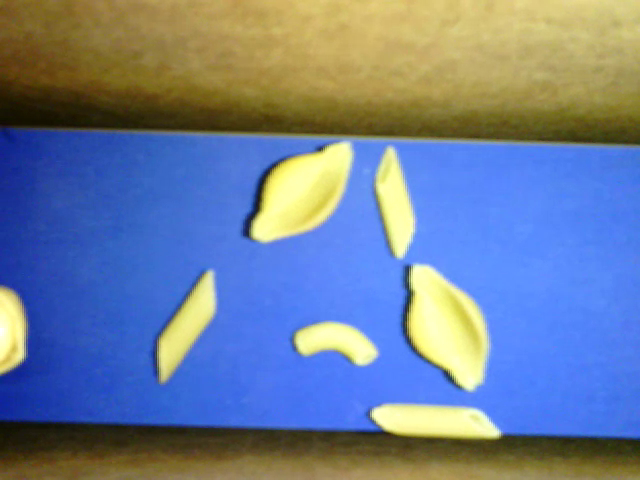elbow: (293, 321, 380, 364)
penne: (156, 269, 216, 383), (370, 401, 503, 438), (375, 145, 417, 260)
shell: (405, 263, 489, 392), (249, 140, 352, 243)
